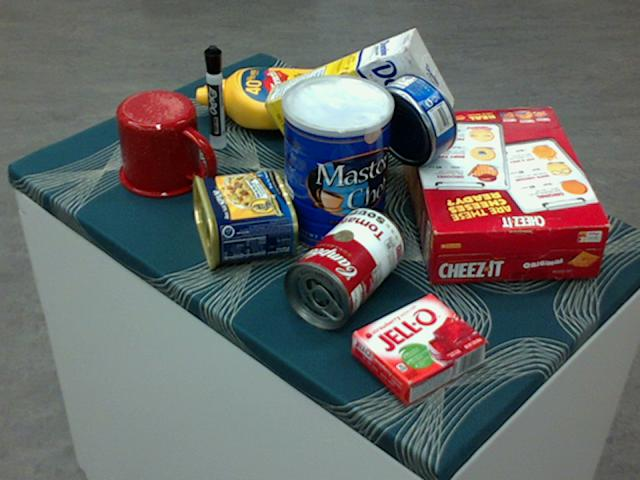cracker_box: (400, 106, 608, 283)
gelatin_box: (351, 293, 486, 403)
large_marker: (202, 44, 226, 148)
master_chef_can: (280, 75, 392, 255)
mug: (116, 89, 212, 197)
mustard_bottle: (194, 66, 361, 131)
potted_meat_can: (189, 169, 297, 269)
sugar_box: (260, 28, 452, 169)
tomato_soup_can: (280, 207, 404, 327)
tuna_fish_can: (370, 71, 457, 164)
